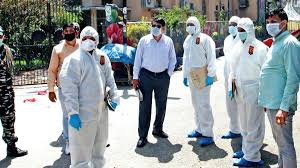mask: (265, 14, 283, 37), (80, 27, 97, 51), (61, 22, 79, 41), (149, 17, 163, 39), (184, 17, 199, 35), (235, 22, 248, 40), (227, 19, 239, 38)
